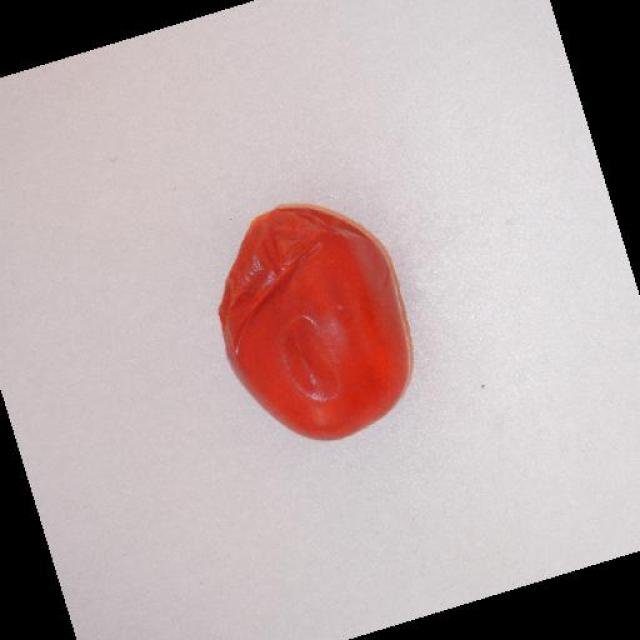Stale_tomato: (199, 178, 454, 450)
